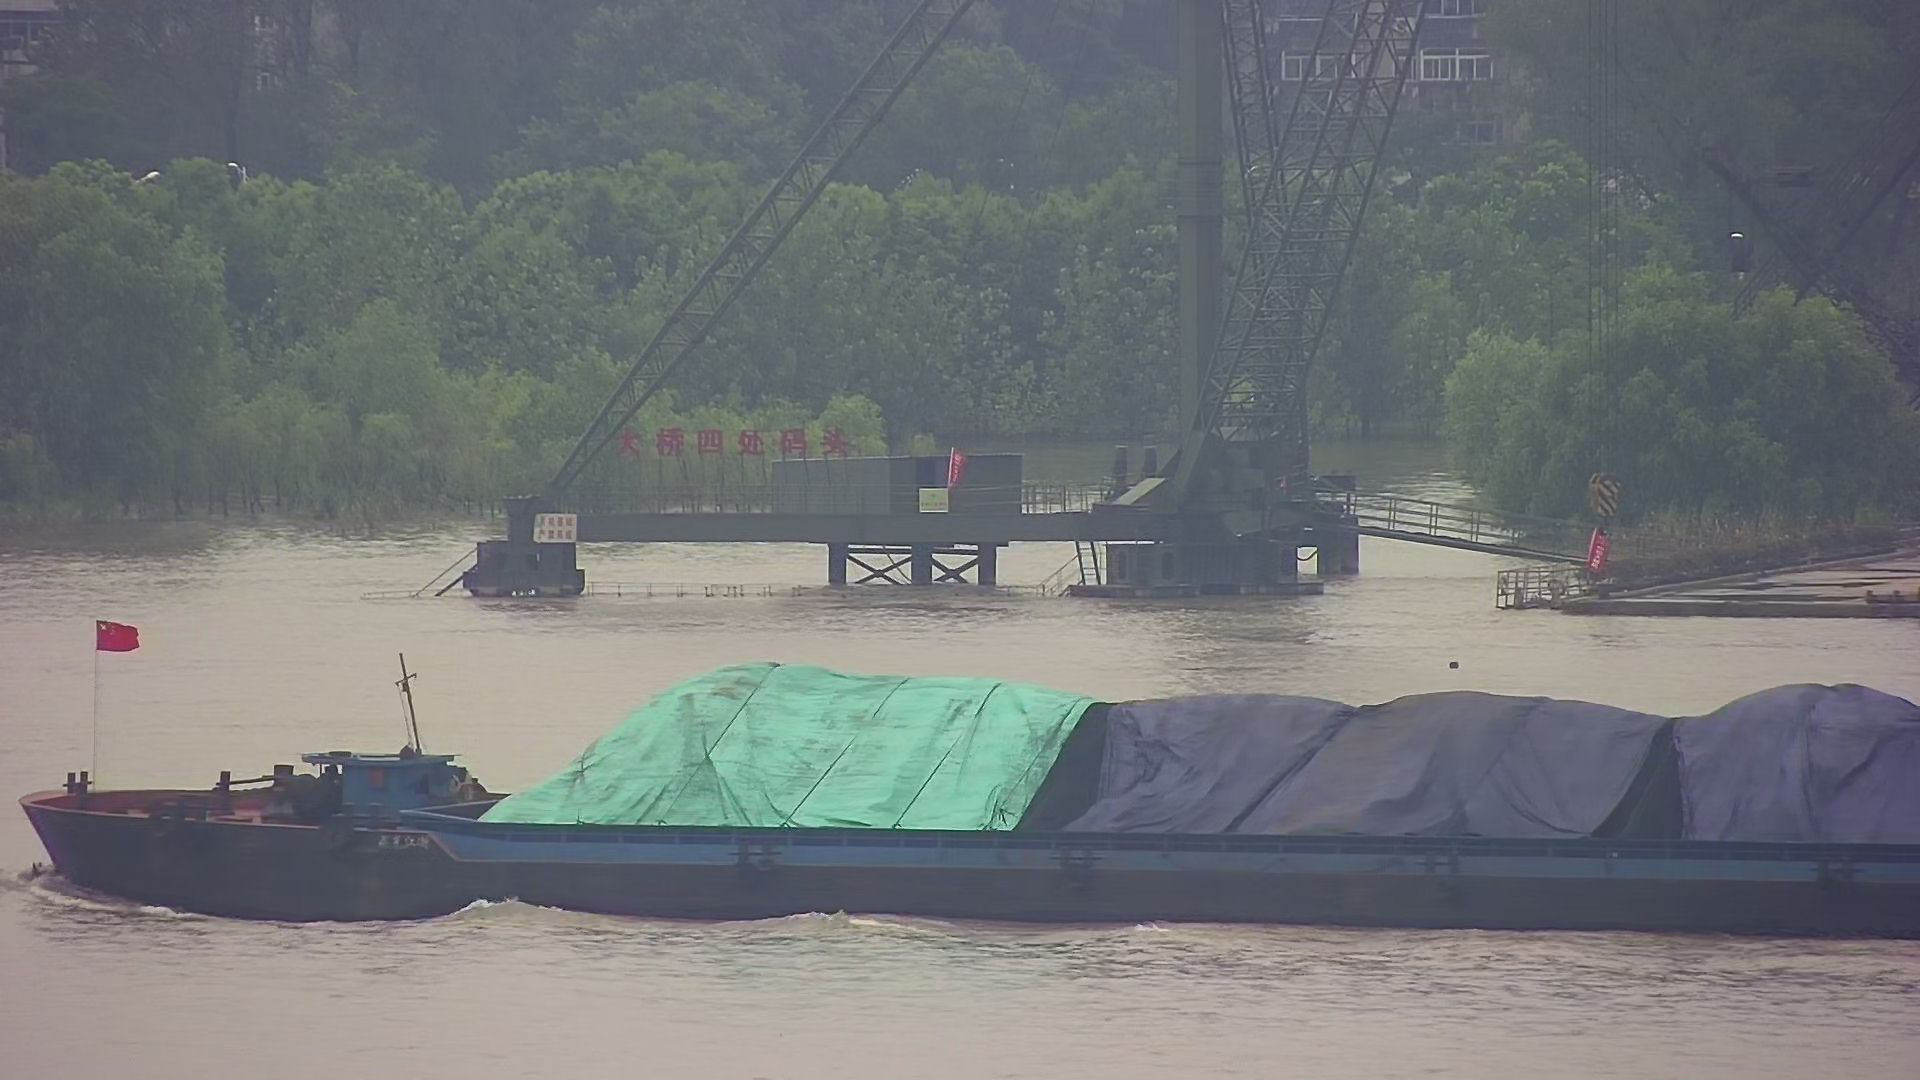harbor: (444, 450, 1920, 617)
ship: (11, 615, 1920, 934)
